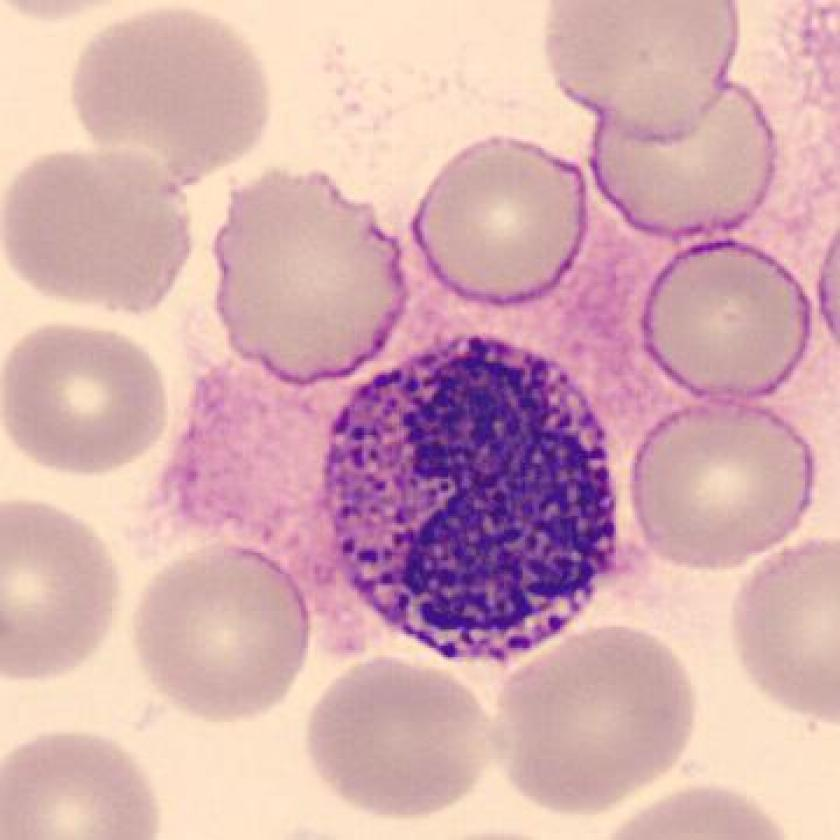basophil: (323, 343, 624, 663)
